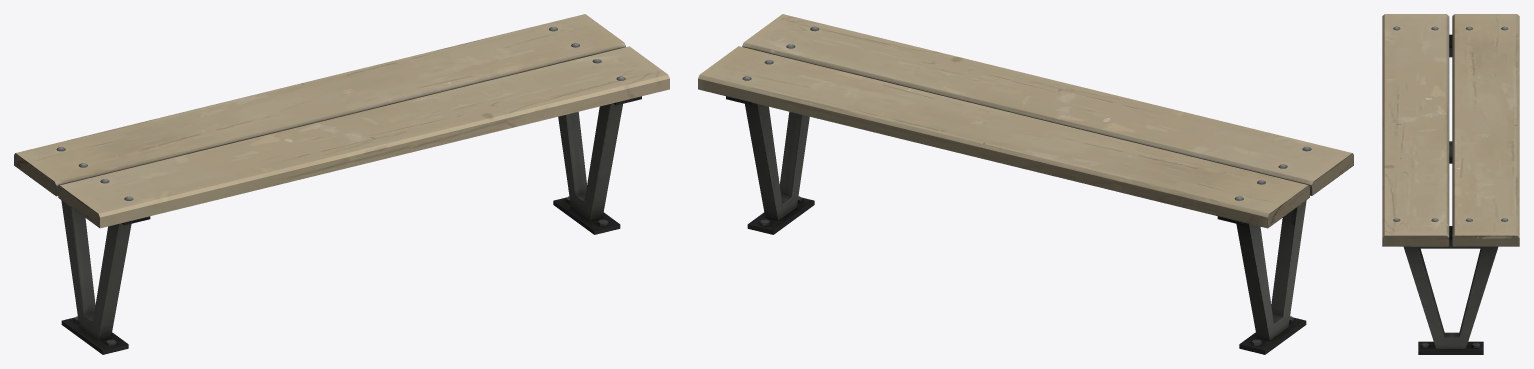
3 views of the same model, side by side, from view 1: azimuth 30°, elevation 25°; view 2: azimuth 150°, elevation 25°; view 3: azimuth 270°, elevation 25° (orthographic). The views are drawn at different scales.
Visible parts, largest first — view 1: body0_model0_lod0_mesh0; view 2: body0_model0_lod0_mesh0; view 3: body0_model0_lod0_mesh0.
Boxes of the visible parts, x1,y1,x2,y2 form: body0_model0_lod0_mesh0: [14, 14, 669, 354]; body0_model0_lod0_mesh0: [698, 14, 1353, 354]; body0_model0_lod0_mesh0: [1382, 14, 1519, 354].
Size of the model in its own units: 88 by 24.27 by 23.
1 material, 1 textured.
